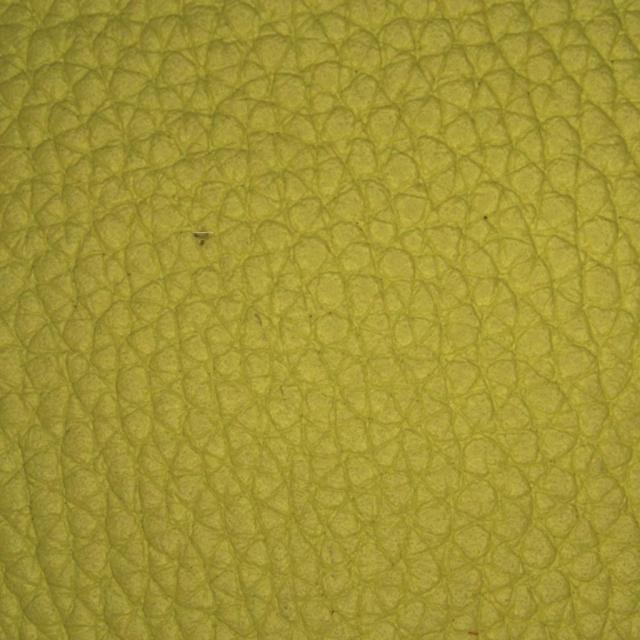Scratch: (144, 140, 254, 340)
pinhole: (402, 146, 569, 287)
